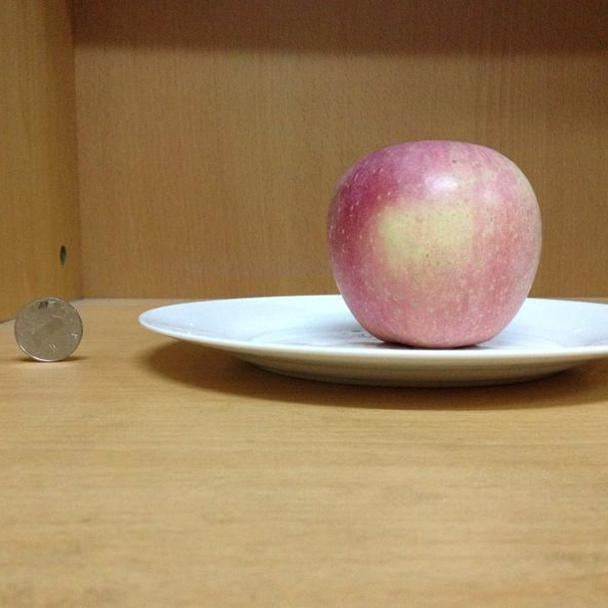apple: (326, 139, 541, 348)
